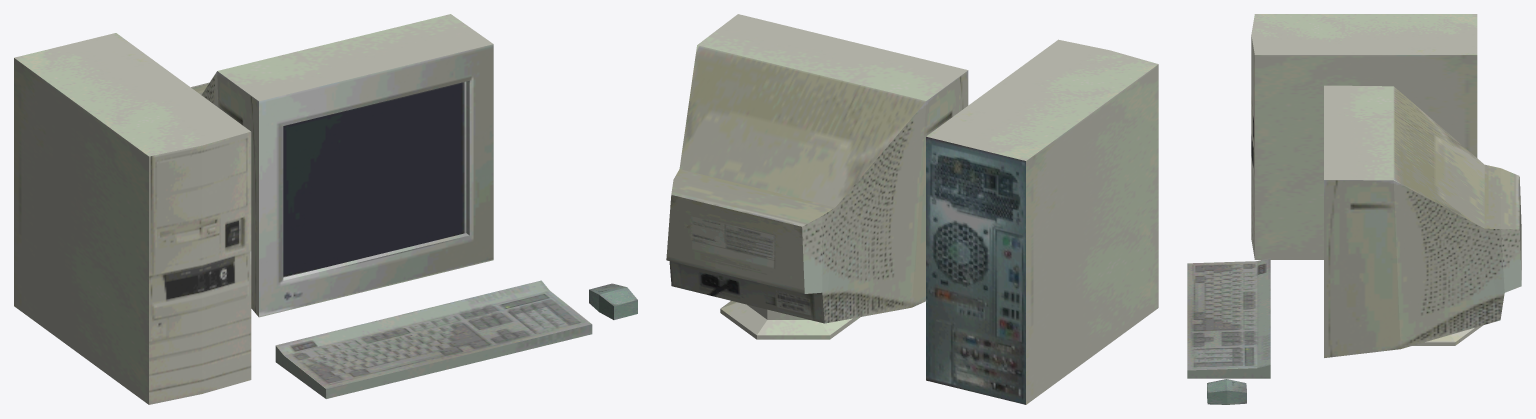
Rendered from computer_05.fbx.
3 renders of one model, left to right at view 1: azimuth 30°, elevation 25°; view 2: azimuth 150°, elevation 25°; view 3: azimuth 270°, elevation 25°, orthographic. The views are drawn at different scales.
Parts seen in each view (by area): view 1: computer_tower4, computer_monitor4, computer_keyboard4, computer_mouse4; view 2: computer_monitor4, computer_tower4; view 3: computer_monitor4, computer_tower4, computer_keyboard4, computer_mouse4.
Boxes of the visible parts, x1=… form: computer_tower4: x1=14, y1=33, x2=251, y2=404; computer_monitor4: x1=191, y1=14, x2=493, y2=317; computer_keyboard4: x1=275, y1=280, x2=592, y2=398; computer_mouse4: x1=589, y1=283, x2=637, y2=319; computer_monitor4: x1=666, y1=14, x2=968, y2=339; computer_tower4: x1=926, y1=39, x2=1158, y2=404; computer_monitor4: x1=1324, y1=85, x2=1521, y2=357; computer_tower4: x1=1251, y1=14, x2=1477, y2=259; computer_keyboard4: x1=1187, y1=258, x2=1270, y2=378; computer_mouse4: x1=1207, y1=379, x2=1246, y2=404.
Bounding box in the file's own units: 118 × 60.98 × 90.1.
